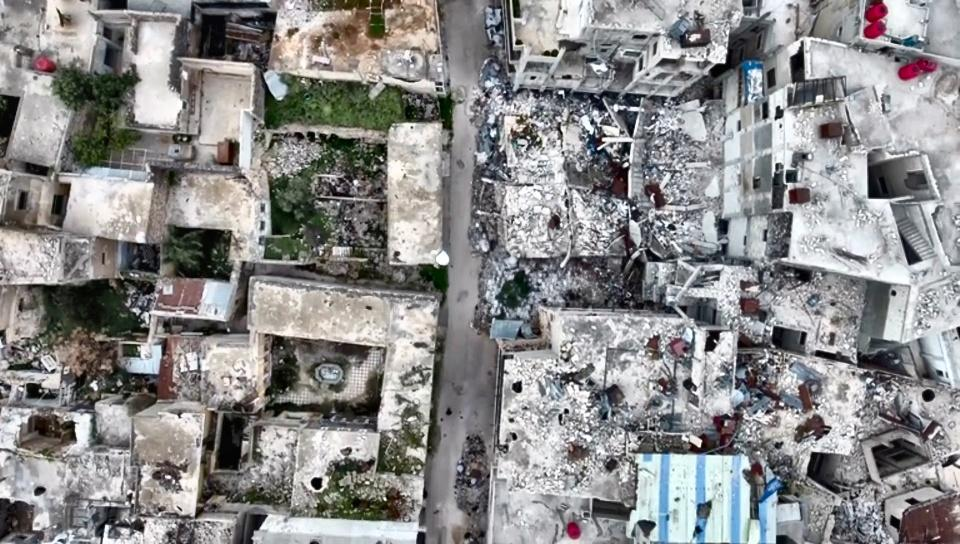kapali: (444, 45, 510, 360)
